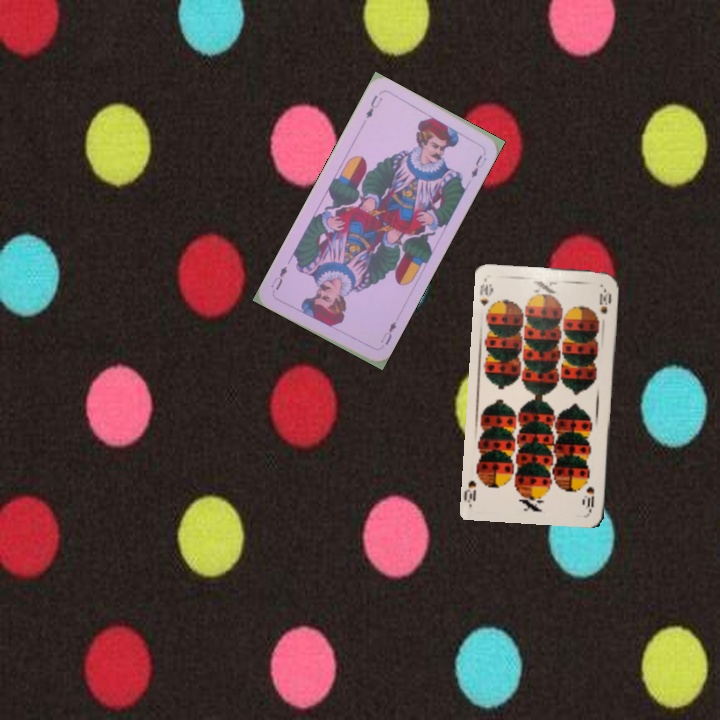EU: (362, 91, 385, 121), (377, 317, 399, 348)
S10: (476, 277, 495, 308), (582, 483, 597, 513)
